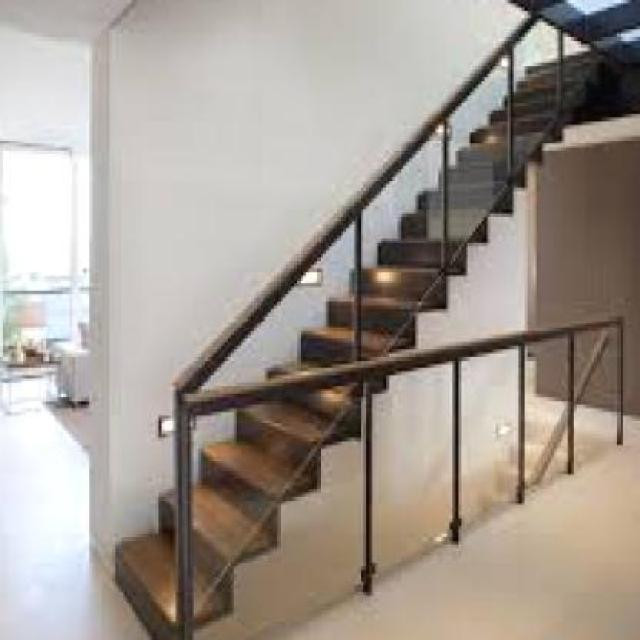stair: (80, 26, 617, 636)
